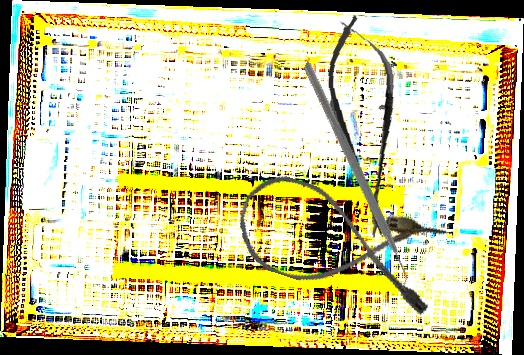Cannula: (225, 166, 453, 321)
Chopper: (227, 61, 478, 297)
Micro Scissor: (320, 11, 409, 242)
